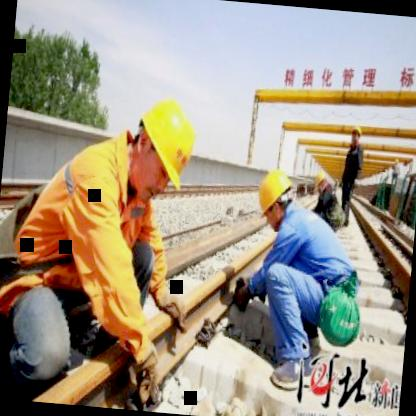helmet: (120, 81, 214, 209), (250, 162, 298, 230), (313, 170, 330, 196), (350, 122, 366, 148)
